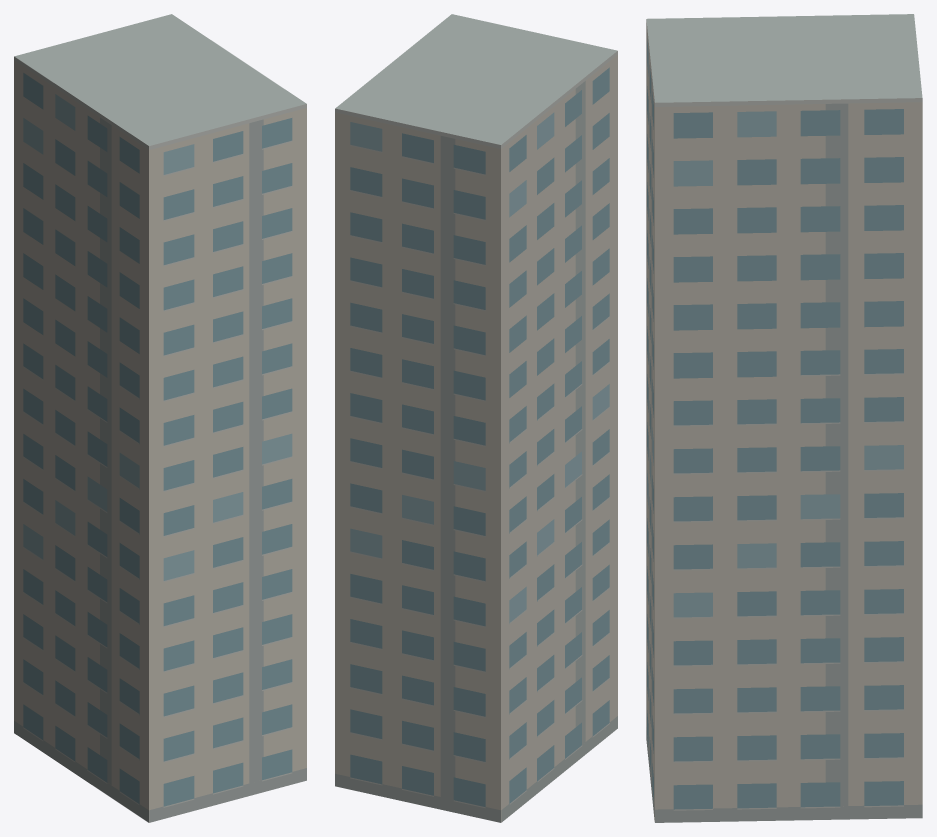
The model's file is residential-9c613c04-1351-448c-a572-ae5210cd57ea.glb.
The picture shows the model from 3 angles, left to right: view 1: azimuth 30°, elevation 25°; view 2: azimuth 150°, elevation 25°; view 3: azimuth 270°, elevation 25°; orthographic projection. The views are drawn at different scales.
Visible parts, largest first — view 1: residential-9c613c04-1351-448c-a572-ae5210cd57ea.tmp; view 2: residential-9c613c04-1351-448c-a572-ae5210cd57ea.tmp; view 3: residential-9c613c04-1351-448c-a572-ae5210cd57ea.tmp.
Boxes of the visible parts, <box> form: residential-9c613c04-1351-448c-a572-ae5210cd57ea.tmp: <box>14,14,306,822</box>; residential-9c613c04-1351-448c-a572-ae5210cd57ea.tmp: <box>335,14,617,822</box>; residential-9c613c04-1351-448c-a572-ae5210cd57ea.tmp: <box>646,14,922,822</box>.
Bounding box in the file's own units: 11.12 × 42 × 14.61.
